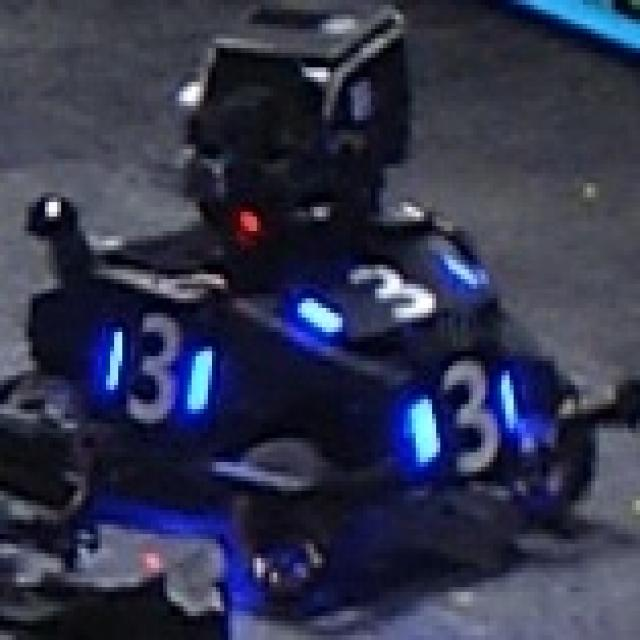B3: (280, 231, 496, 337), (88, 291, 222, 421), (393, 354, 536, 474)
